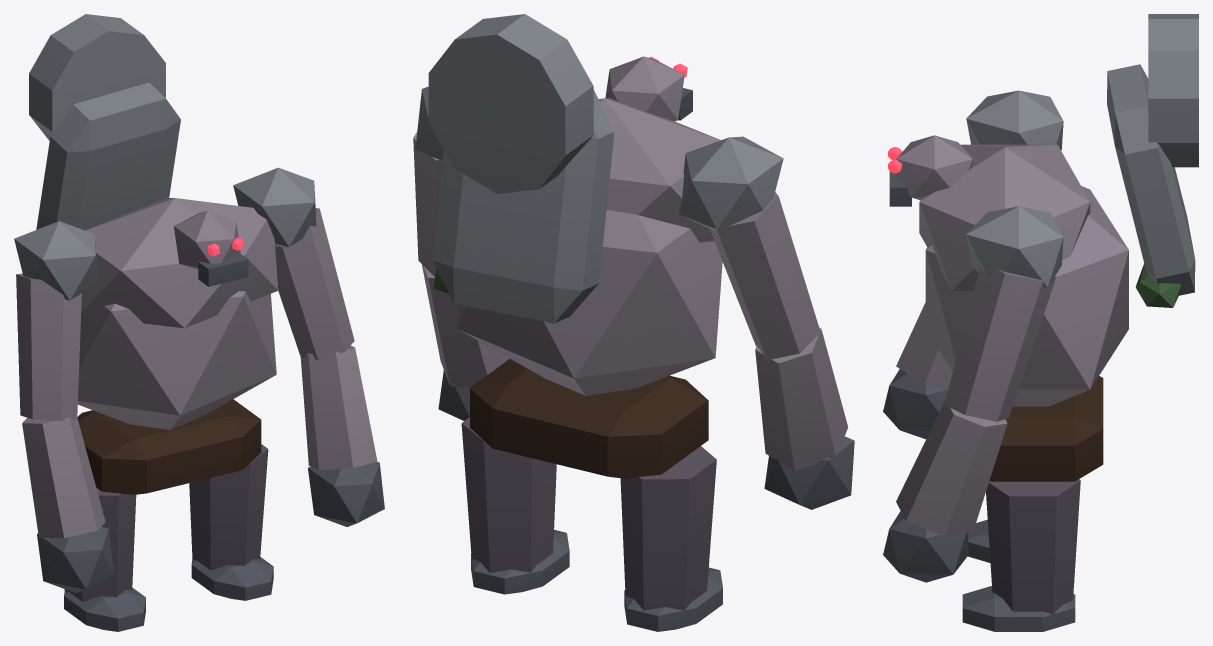
Rendered from enemy_brute.glb.
3 renders of one model, left to right at view 1: azimuth 30°, elevation 25°; view 2: azimuth 150°, elevation 25°; view 3: azimuth 270°, elevation 25°, orthographic. The views are drawn at different scales.
Parts seen in each view (by area): view 1: enemy_brute; view 2: enemy_brute; view 3: enemy_brute.
Part boxes in pixels (x1,y1,x2,y2): enemy_brute: [14, 14, 384, 631]; enemy_brute: [413, 14, 854, 631]; enemy_brute: [883, 14, 1198, 631].
Size of the model in its own units: 1.6 by 2.4 by 1.2.
